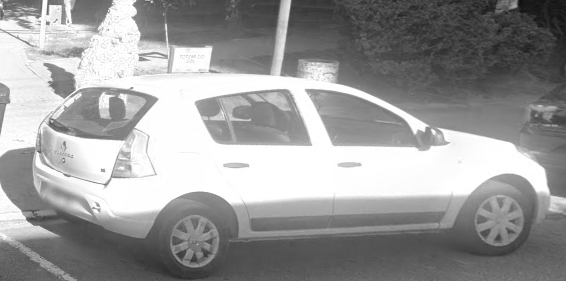car: (29, 72, 553, 278)
